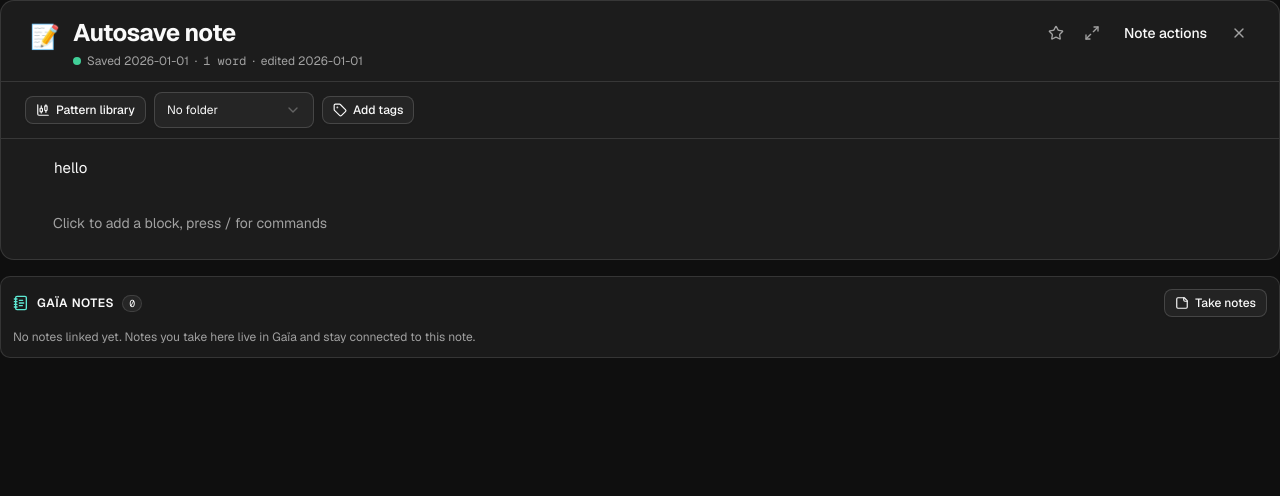
Test case: Gaia autosave race › explicitly restores the server snapshot when the user chooses it
Step 1. Replace the text in the field with test id "gaia-title-input" with "My local title" → (552, 33), box [73,17,1032,49]
Wait 900 ms
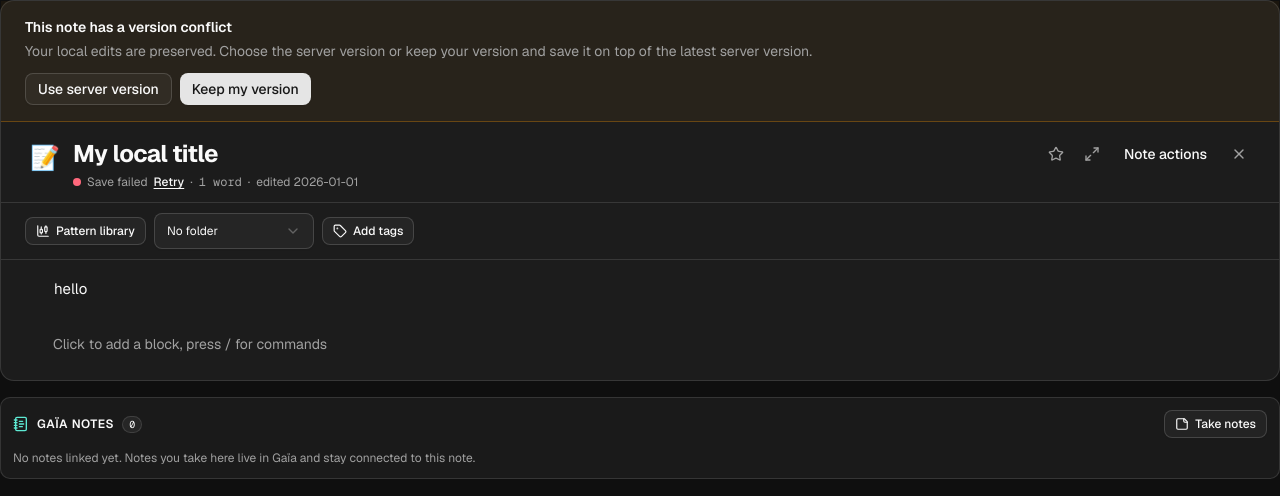
Step 2. Click the button "Use server version" → (98, 89), box [25,73,172,105]
Wait 60000 ms
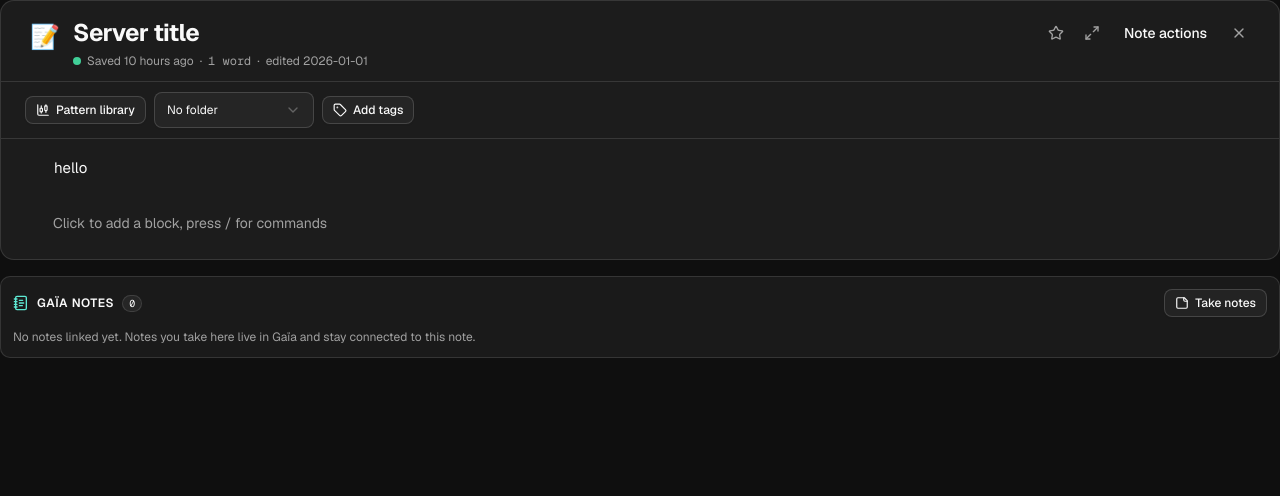
Expected: the field with test id "gaia-title-input" holds "Server title", [73,17,1032,49]
Expected: the message with test id "gaia-conflict-resolution" is gone
